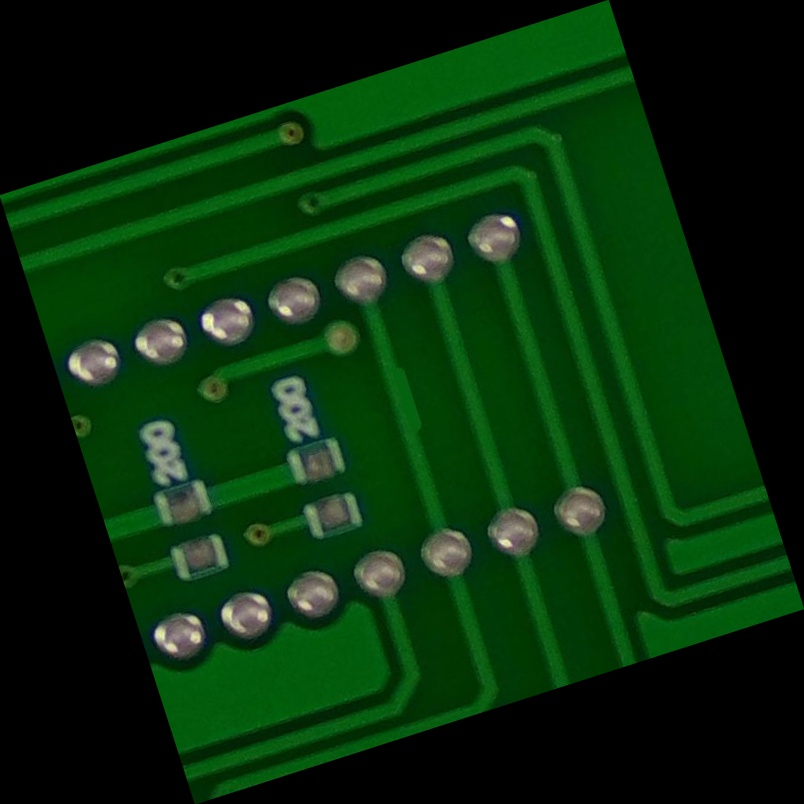spur: (367, 358, 437, 446)
